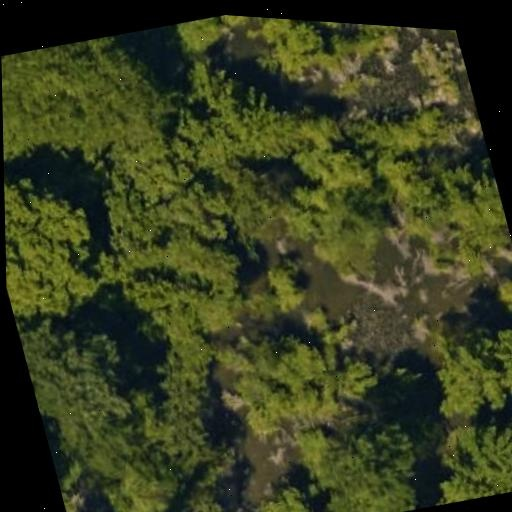tree-top: (196, 293, 390, 459), (0, 20, 174, 189), (155, 36, 329, 190), (101, 211, 259, 348), (260, 132, 397, 288), (16, 299, 150, 456), (3, 150, 113, 326), (385, 150, 512, 291), (290, 407, 434, 512), (408, 293, 512, 431), (414, 397, 512, 511), (246, 16, 336, 92)
